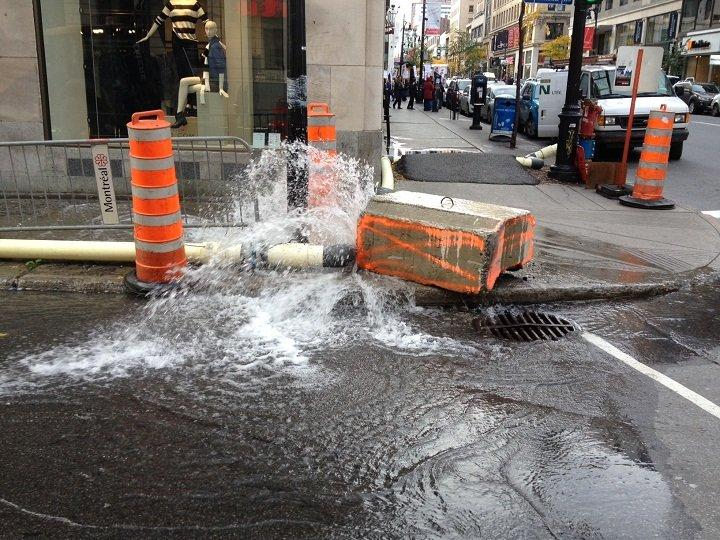pipe burst: (129, 137, 420, 325)
water accumulation: (0, 201, 720, 540)
